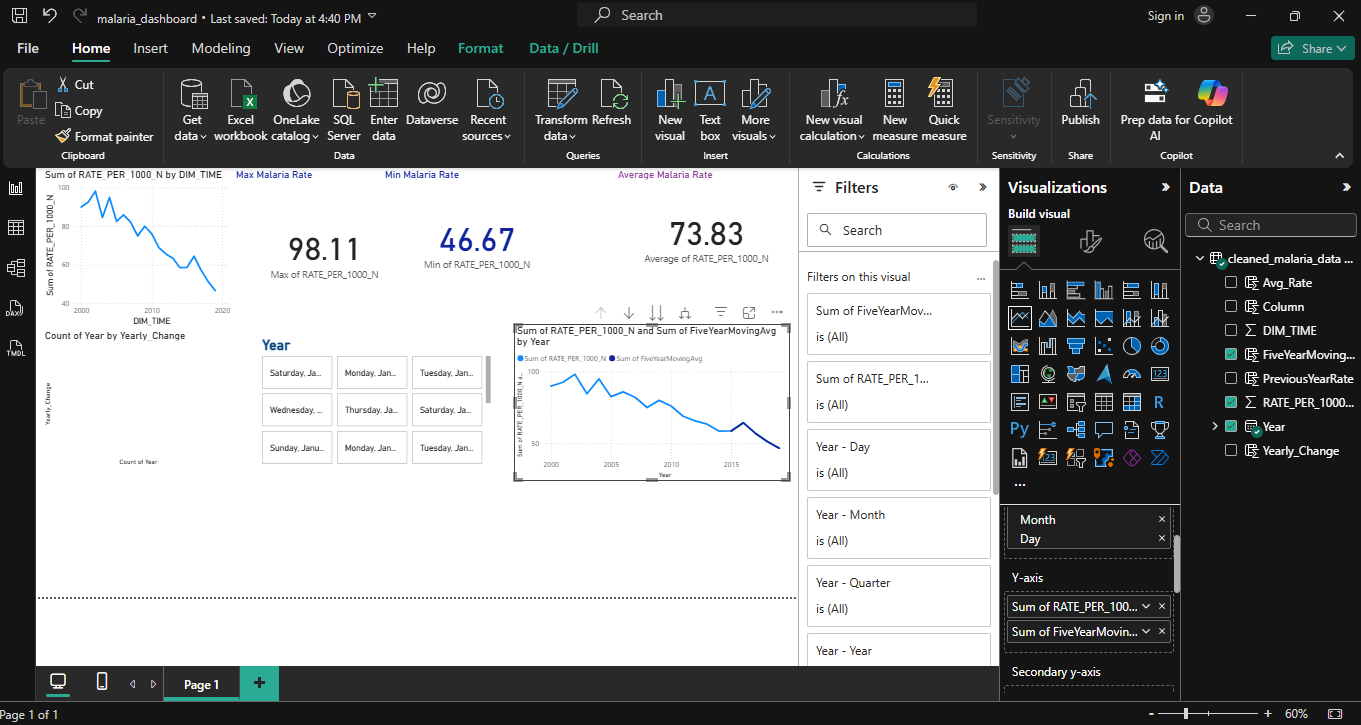

Layout of this report page (visuals, bound fields, positions):
{"tool":"powerbi","page":{"name":"Page 1","canvas":[1280,720],"ordinal":0},"visuals":[{"type":"lineChart","fields":{"Category":["cleaned_malaria_data (4).DIM_TIME"],"Y":["Sum(cleaned_malaria_data (4).RATE_PER_1000_N)"]},"box":[10.1,0,320.8,270.4],"z":0},{"type":"hundredPercentStackedBarChart","fields":{"Y":["CountNonNull(cleaned_malaria_data (4).Year)"],"Category":["cleaned_malaria_data (4).Yearly_Change"]},"box":[10.1,270.4,307.4,233.5],"z":1000},{"type":"card","title":"Max Malaria Rate","fields":{"Values":["Max(cleaned_malaria_data (4).RATE_PER_1000_N)"]},"box":[330.9,0,307,262],"z":2000},{"type":"card","title":"Min Malaria Rate","fields":{"Values":["Min(cleaned_malaria_data (4).RATE_PER_1000_N)"]},"box":[581.2,0,319.2,228.5],"z":3000},{"type":"card","title":"Average Malaria Rate","fields":{"Values":["Avg(cleaned_malaria_data (4).RATE_PER_1000_N)"]},"box":[972.6,0,307.4,208.3],"z":4000},{"type":"advancedSlicerVisual","fields":{"Values":["cleaned_malaria_data (4).Year"]},"box":[374.6,283.9,394.8,220.1],"z":5000},{"type":"lineChart","fields":{"Category":["cleaned_malaria_data (4).Year.Variation.Date Hierarchy.Year","cleaned_malaria_data (4).Year.Variation.Date Hierarchy.Quarter","cleaned_malaria_data (4).Year.Variation.Date Hierarchy.Month","cleaned_malaria_data (4).Year.Variation.Date Hierarchy.Day"],"Y":["Sum(cleaned_malaria_data (4).RATE_PER_1000_N)","Sum(cleaned_malaria_data (4).FiveYearMovingAvg)"]},"box":[802.9,262,463.6,263.7],"z":5001}]}

Visuals, with their boxes on the page's 1280x720 design canvas (x1, y1, x2, y2). These are canvas units, not pixel positions in the 1361x725 screenshot, which may show the page scaled, cropped or inside an application window:
lineChart - cleaned_malaria_data (4).DIM_TIME x Sum(cleaned_malaria_data (4).RATE_PER_1000_N): (x1=10, y1=0, x2=331, y2=270)
hundredPercentStackedBarChart - CountNonNull(cleaned_malaria_data (4).Year) x cleaned_malaria_data (4).Yearly_Change: (x1=10, y1=270, x2=318, y2=504)
"Max Malaria Rate" card: (x1=331, y1=0, x2=638, y2=262)
"Min Malaria Rate" card: (x1=581, y1=0, x2=900, y2=228)
"Average Malaria Rate" card: (x1=973, y1=0, x2=1280, y2=208)
advancedSlicerVisual - cleaned_malaria_data (4).Year: (x1=375, y1=284, x2=769, y2=504)
lineChart - cleaned_malaria_data (4).Year.Variation.Date Hierarchy.Year x cleaned_malaria_data (4).Year.Variation.Date Hierarchy.Quarter: (x1=803, y1=262, x2=1266, y2=526)
